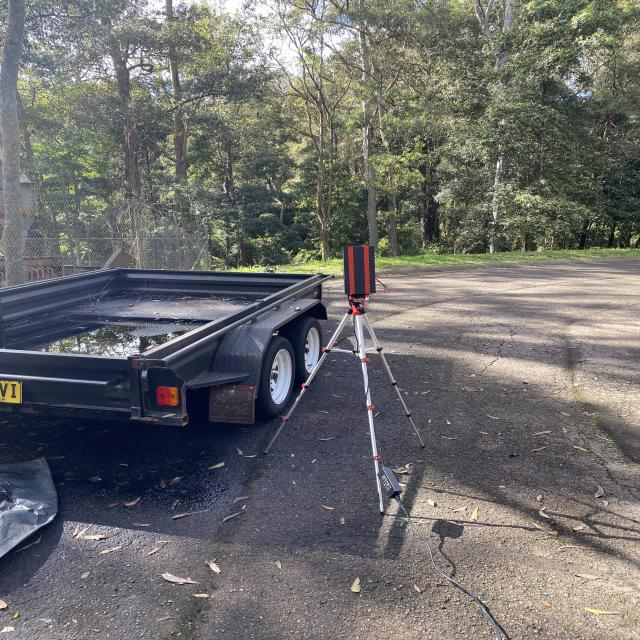matrix: (341, 246, 376, 295)
